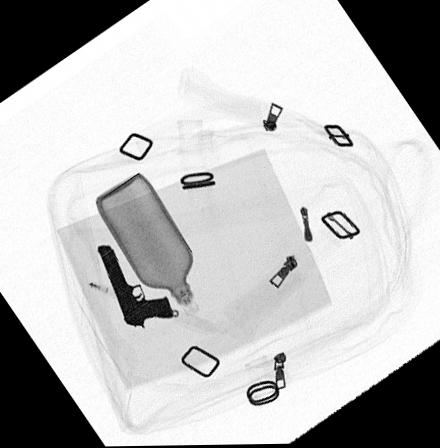Gun: (98, 245, 175, 326)
